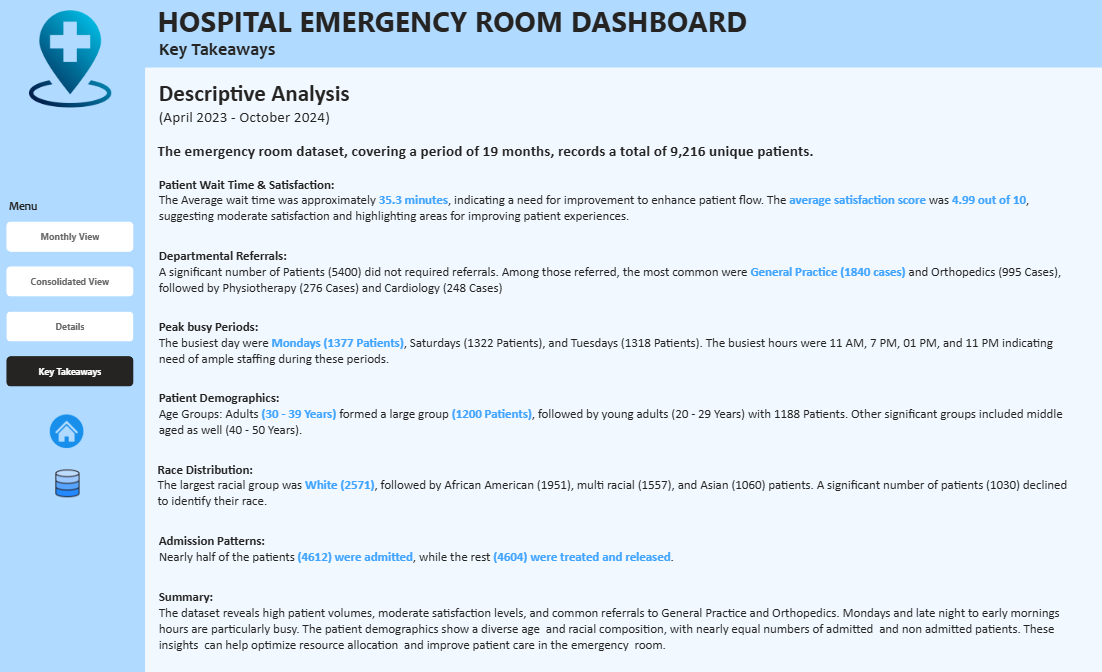

Layout of this report page (visuals, bound fields, positions):
{"tool":"powerbi","page":{"name":"Key Takeaways","canvas":[2300,1400],"ordinal":3},"visuals":[{"type":"shape","box":[0,0,311.3,1399.9],"z":0},{"type":"shape","box":[311.3,0,1989.1,142.1],"z":1000},{"type":"textbox","box":[332.2,0,1280.5,90],"z":2000},{"type":"image","box":[46.9,17.9,218.9,212.2],"z":3000},{"type":"textbox","box":[333.7,76.1,411.3,59],"z":4000},{"type":"textbox","box":[333.7,161.4,707.8,113.3],"z":5000},{"type":"textbox","box":[332.2,290.2,1930.8,59],"z":6000},{"type":"textbox","box":[333.4,362.4,1905.4,116],"z":7000},{"type":"textbox","box":[333.4,510.3,1905.4,116],"z":8000},{"type":"textbox","box":[333.4,658.2,1905.4,116],"z":9000},{"type":"textbox","box":[333.4,806.1,1905.4,116],"z":10000},{"type":"textbox","box":[331.8,954,1905.4,116],"z":11000},{"type":"textbox","box":[333.4,1101.9,1905.4,85.4],"z":12000},{"type":"textbox","box":[333.4,1219.3,1905.4,149.8],"z":13000},{"type":"pageNavigator","box":[24.2,462.3,264.1,343.1],"z":14000},{"type":"textbox","box":[24.2,409.1,99.9,48.3],"z":15000},{"type":"image","box":[116.7,967,67.4,75.2],"z":19001},{"type":"image","box":[110.1,854.1,79.5,87.7],"z":19002}]}

Visuals, with their boxes in screenshot pixels (x1, y1, x2, y2), scaled from the page's 2300x1400 canvas onto the 1102x672 screenshot:
shape: [left=0, top=0, right=149, bottom=671]
shape: [left=149, top=0, right=1101, bottom=68]
textbox: [left=159, top=0, right=773, bottom=43]
image: [left=22, top=9, right=127, bottom=110]
textbox: [left=160, top=37, right=357, bottom=65]
textbox: [left=160, top=77, right=499, bottom=132]
textbox: [left=159, top=139, right=1084, bottom=168]
textbox: [left=160, top=174, right=1073, bottom=230]
textbox: [left=160, top=245, right=1073, bottom=301]
textbox: [left=160, top=316, right=1073, bottom=372]
textbox: [left=160, top=387, right=1073, bottom=443]
textbox: [left=159, top=458, right=1072, bottom=514]
textbox: [left=160, top=529, right=1073, bottom=570]
textbox: [left=160, top=585, right=1073, bottom=657]
pageNavigator: [left=12, top=222, right=138, bottom=387]
textbox: [left=12, top=196, right=59, bottom=220]
image: [left=56, top=464, right=88, bottom=500]
image: [left=53, top=410, right=91, bottom=452]
